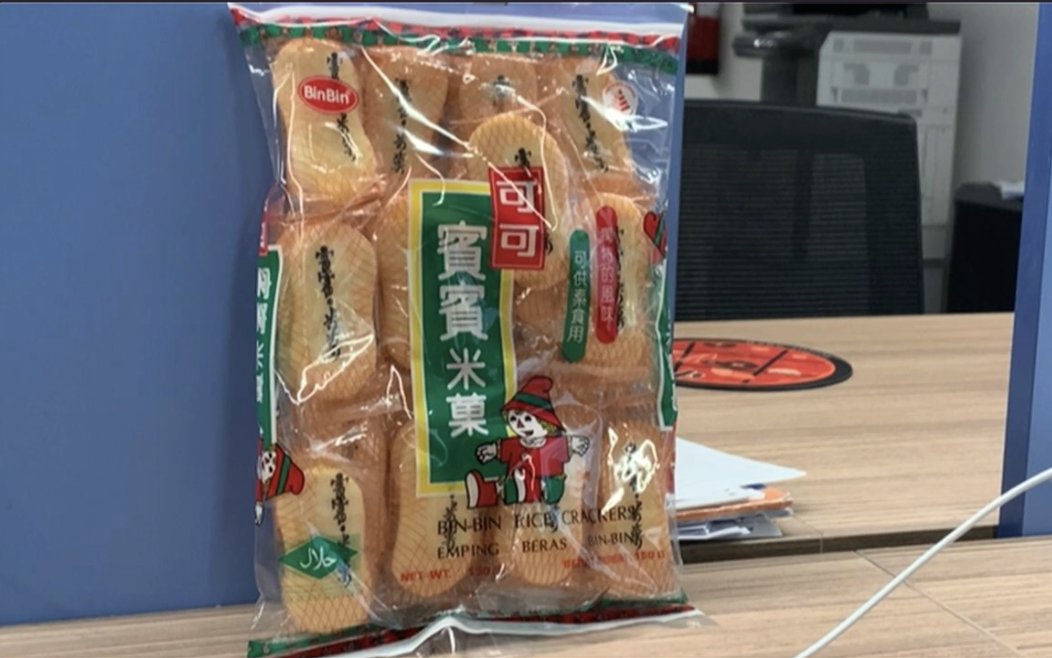crackers_100g-199g: (276, 40, 668, 610)
